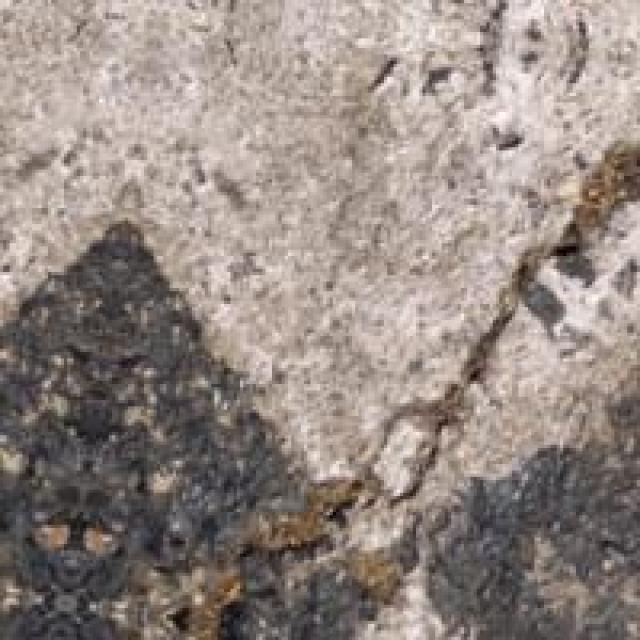Crack: (192, 163, 637, 499)
